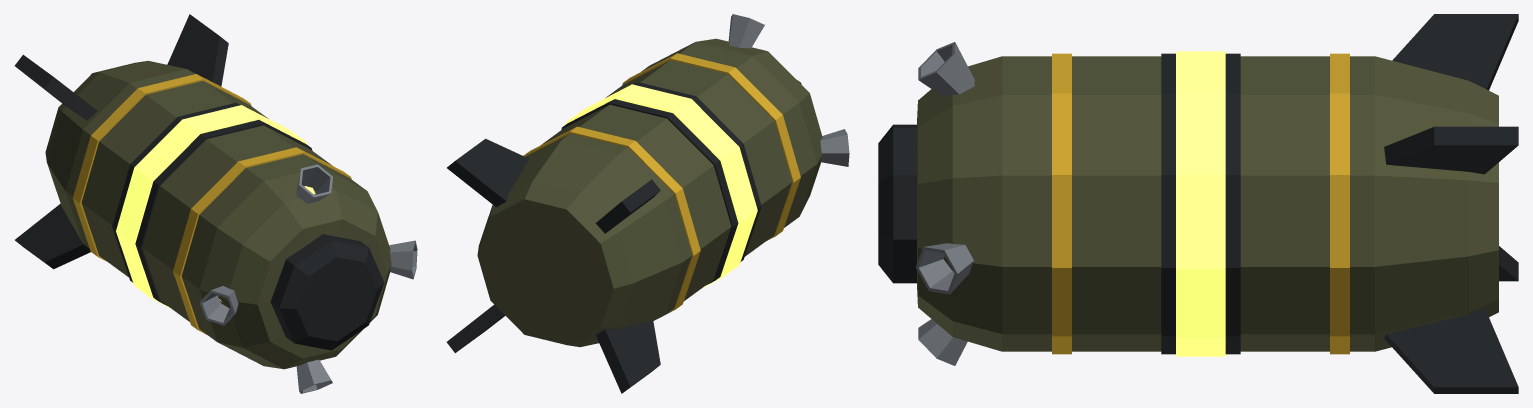
The model's file is shell_canister.fbx.
The picture shows the model from 3 angles, left to right: view 1: azimuth 30°, elevation 25°; view 2: azimuth 150°, elevation 25°; view 3: azimuth 270°, elevation 25°; orthographic projection. The views are drawn at different scales.
Parts seen in each view (by area): view 1: Body, Glow; view 2: Body, Glow; view 3: Body, Glow.
Boxes of the visible parts, box(x1,y1,x2,y2) form: Body: box(14, 14, 417, 393); Glow: box(116, 105, 315, 308); Body: box(446, 14, 849, 393); Glow: box(565, 84, 757, 287); Body: box(878, 14, 1518, 393); Glow: box(1176, 51, 1225, 356).
Size of the model in its own units: 70.41 by 69.57 by 129.
Materials: 2 (1 with a texture image).
